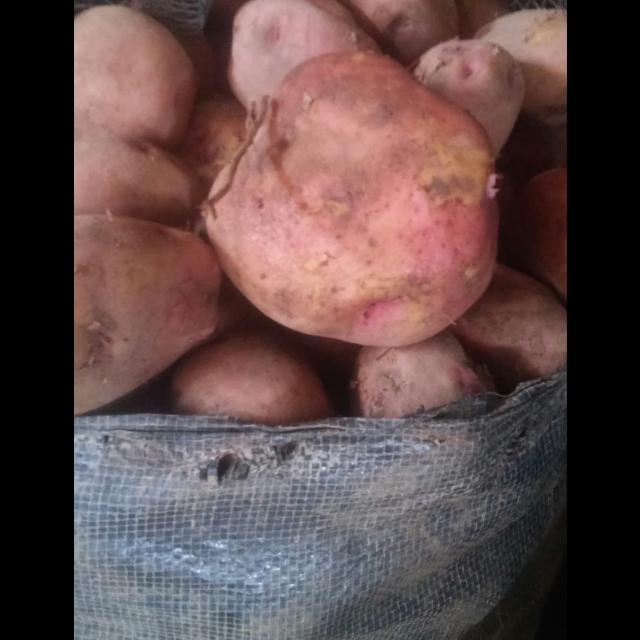Defected potato: (196, 48, 504, 356)
